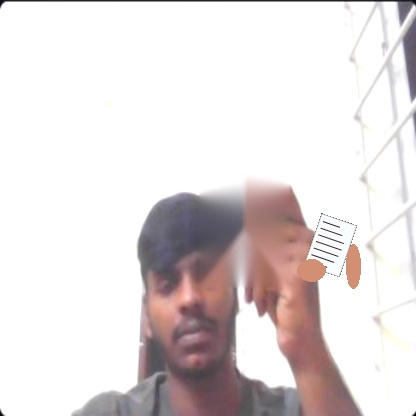cheat_chit: (304, 213, 357, 277)
